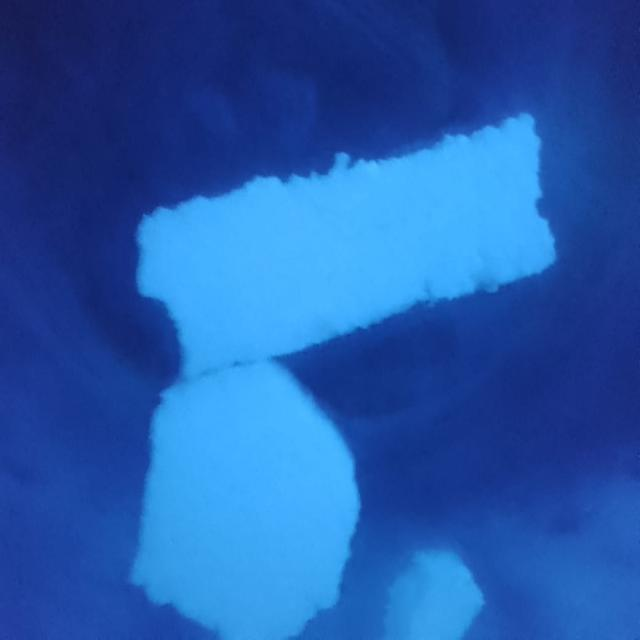thermocoal: (111, 125, 572, 639), (103, 99, 640, 383), (132, 356, 391, 632), (388, 527, 493, 640)
